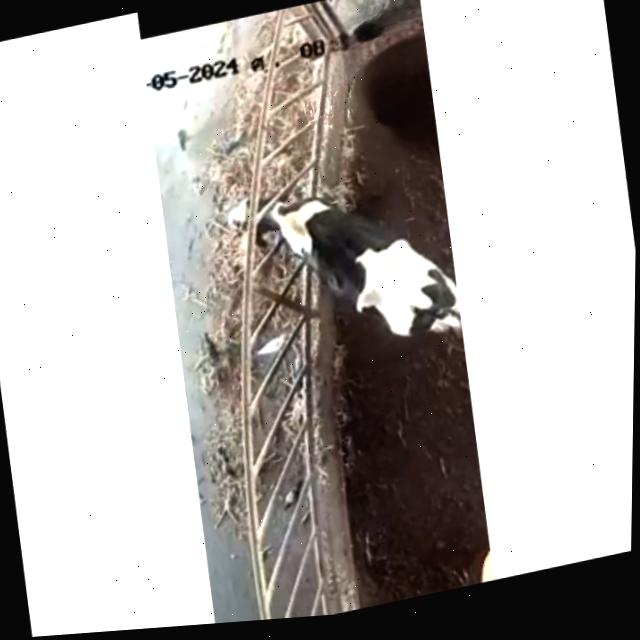eat: (183, 149, 336, 276)
